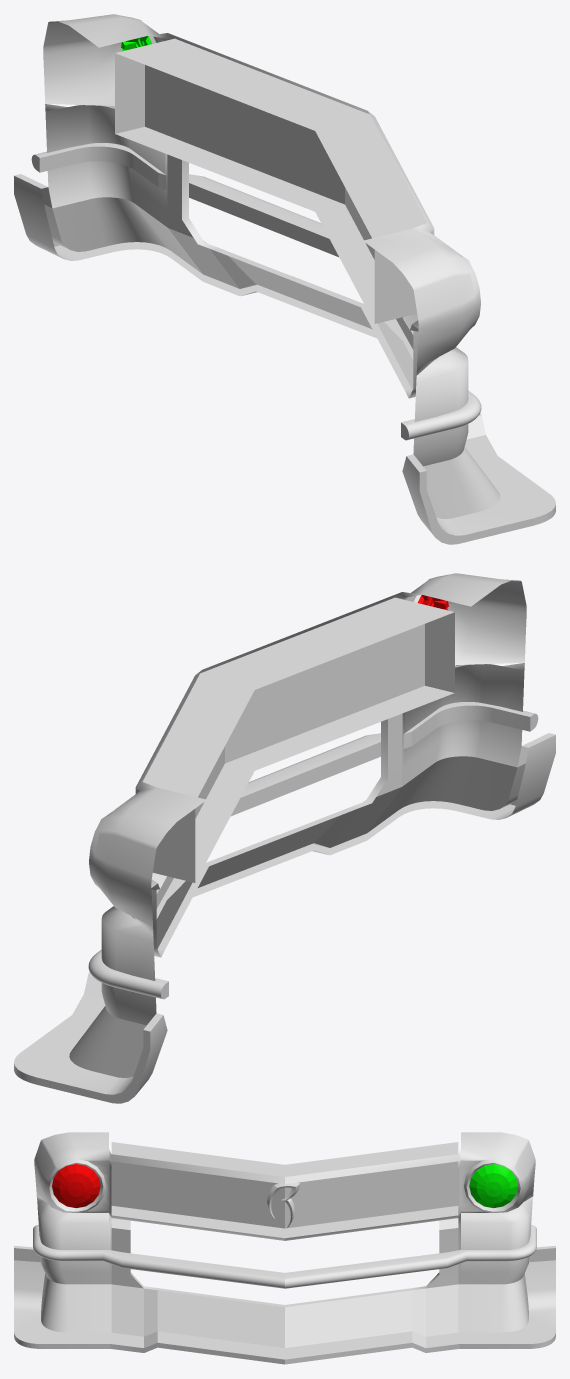
Rendered from SKEL_Frontbumper_Var01.fbx.
3 views of the same model, one above another, from view 1: azimuth 30°, elevation 25°; view 2: azimuth 150°, elevation 25°; view 3: azimuth 270°, elevation 25° (orthographic). The views are drawn at different scales.
Visible parts, largest first — view 1: Frontbumper_Upper, Frontbumper_Lower, Frontbumper_FrontSpoiler, Frontbumper_Grid, Frontbumper_ProtectionBar; view 2: Frontbumper_Upper, Frontbumper_Lower, Frontbumper_FrontSpoiler, Frontbumper_Grid, Frontbumper_ProtectionBar; view 3: Frontbumper_Lower, Frontbumper_Upper, Frontbumper_Grid, Frontbumper_FrontSpoiler, Frontbumper_ProtectionBar, Frontbumper_Headlights, Brand.
Boxes of the visible parts, x1,y1,x2,y2 form: Frontbumper_Upper: (43, 14, 480, 375); Frontbumper_Lower: (45, 104, 500, 518); Frontbumper_FrontSpoiler: (14, 174, 555, 544); Frontbumper_Grid: (145, 65, 374, 259); Frontbumper_ProtectionBar: (31, 143, 481, 440); Frontbumper_Upper: (89, 573, 526, 934); Frontbumper_Lower: (69, 663, 524, 1077); Frontbumper_FrontSpoiler: (14, 733, 555, 1103); Frontbumper_Grid: (195, 624, 424, 818); Frontbumper_ProtectionBar: (88, 702, 538, 999); Frontbumper_Lower: (36, 1196, 533, 1347); Frontbumper_Upper: (34, 1132, 535, 1240); Frontbumper_Grid: (111, 1161, 458, 1228); Frontbumper_FrontSpoiler: (14, 1245, 555, 1364); Frontbumper_ProtectionBar: (33, 1225, 536, 1288); Frontbumper_Headlights: (52, 1164, 517, 1208); Brand: (267, 1182, 300, 1227).
Size of the model in its own units: 63 by 70 by 200.
